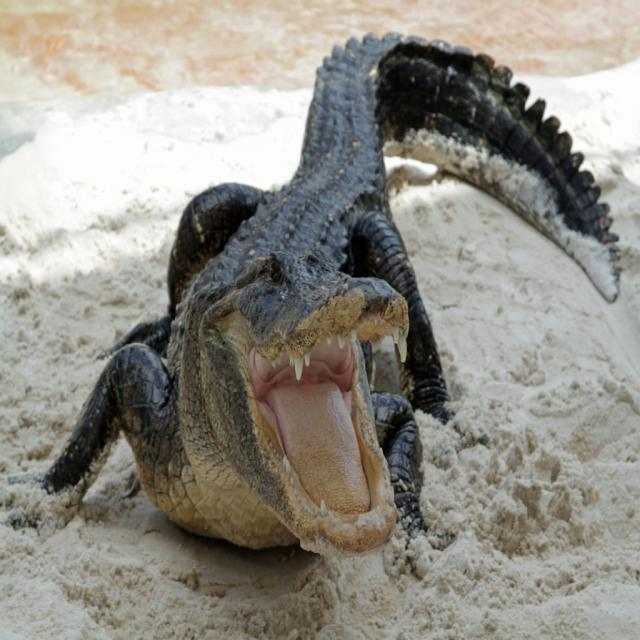crocodile: (19, 37, 626, 567)
